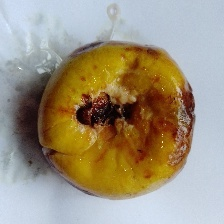guava: (9, 1, 190, 189)
